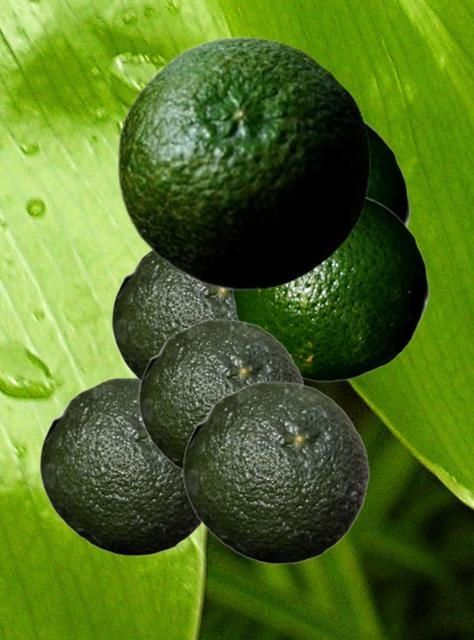calamansi: (116, 35, 369, 290), (232, 194, 429, 381), (182, 381, 369, 563), (39, 377, 201, 555), (138, 319, 306, 472), (111, 249, 235, 381), (365, 119, 410, 227)
